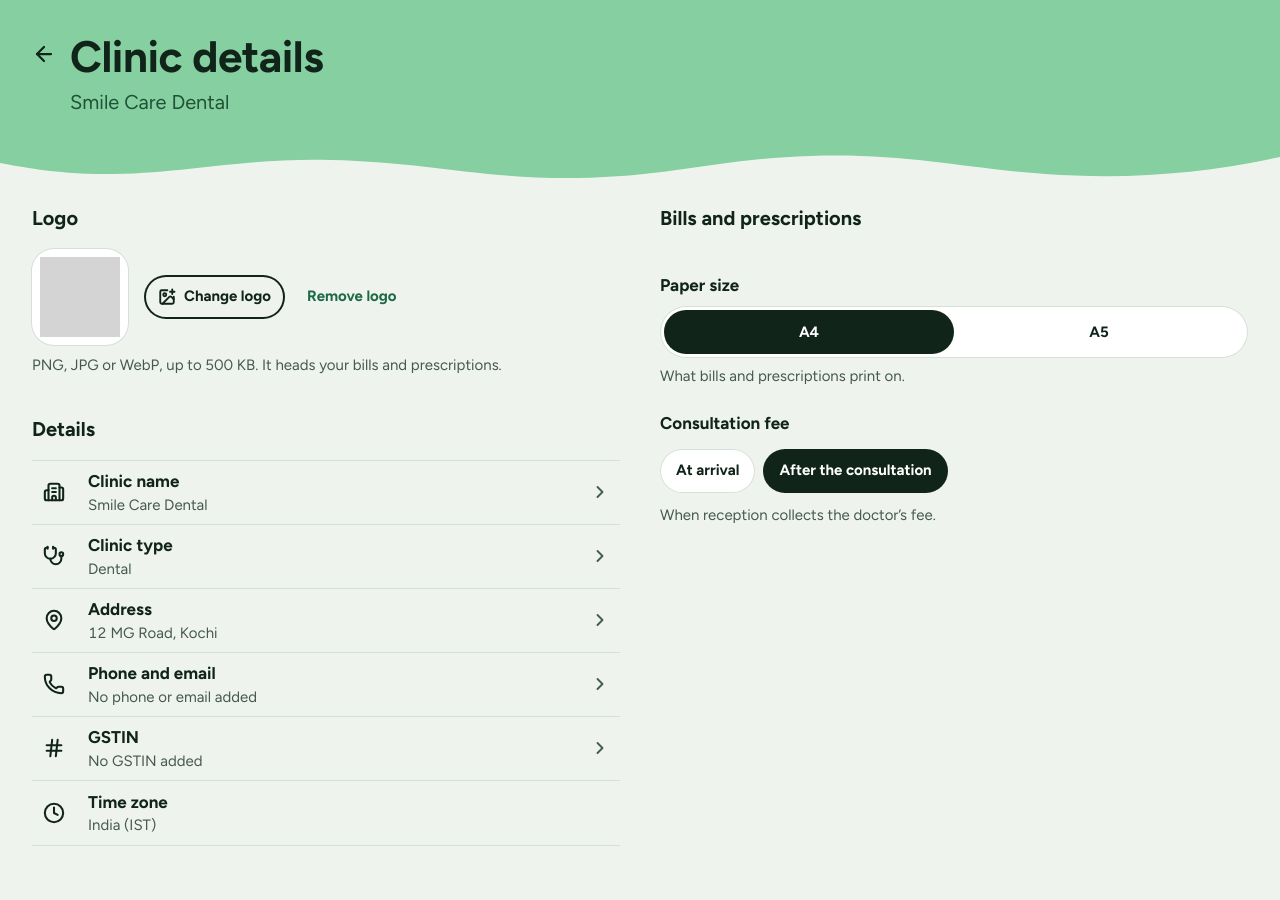
it: ClinicDetails (plan §9, D78) › lists the details as rows, each opening the one sheet that changes them
This screenshot has width=1280, height=900.
Expected: the list items read "Clinic nameSmile Care Dental", "Clinic typeDental", "Address12 MG Road, Kochi", "Phone and emailNo phone or email added", "GSTINNo GSTIN added", "Time zoneIndia (IST)", in this order, [32, 461, 620, 525]; [32, 525, 620, 589]; [32, 589, 620, 653]; [32, 653, 620, 717]; [32, 717, 620, 781]; [43, 792, 168, 834]
Click the button "Address" at (120, 609), box [88, 597, 578, 622]
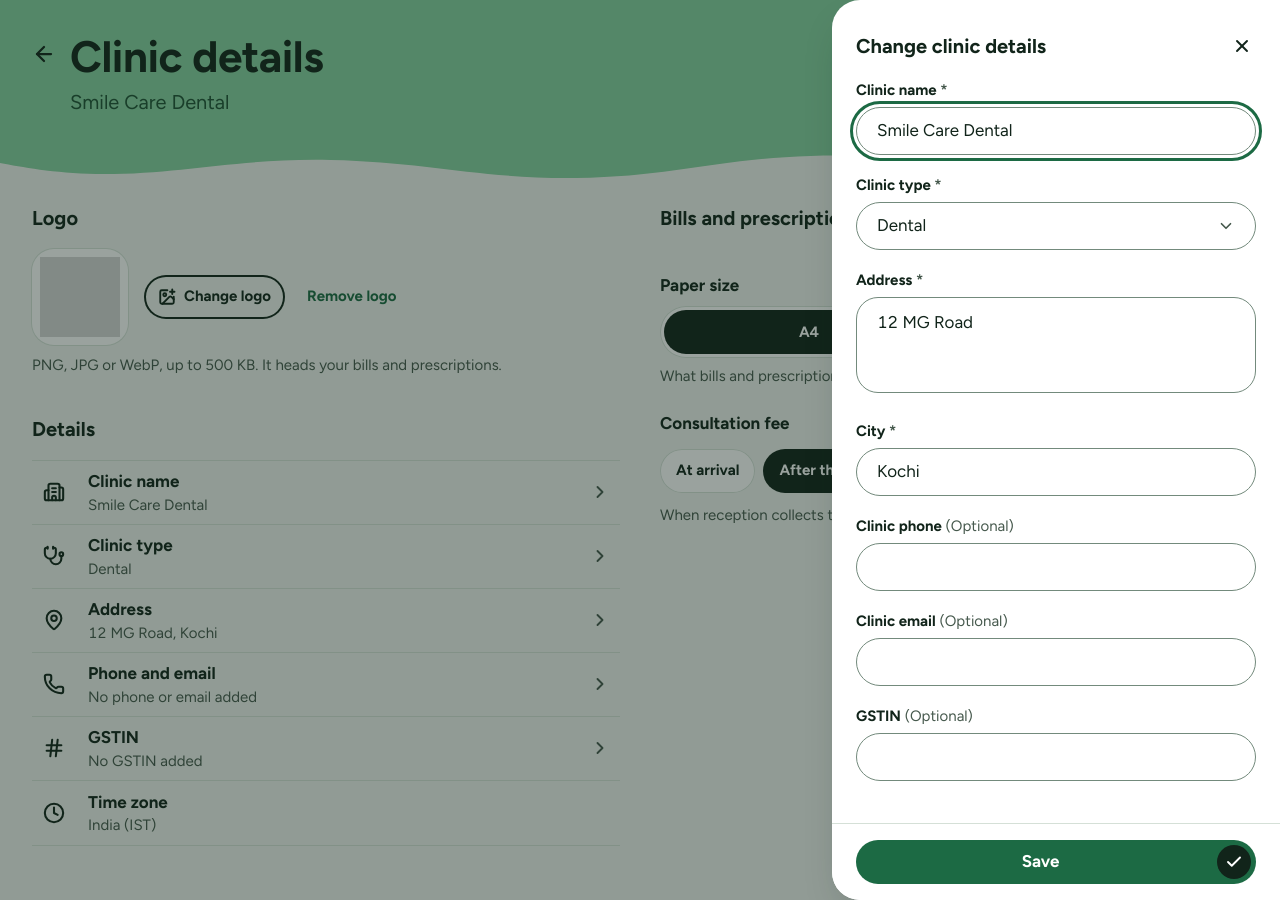
Click the button named "Close" at (1242, 46), box [1220, 24, 1264, 68]
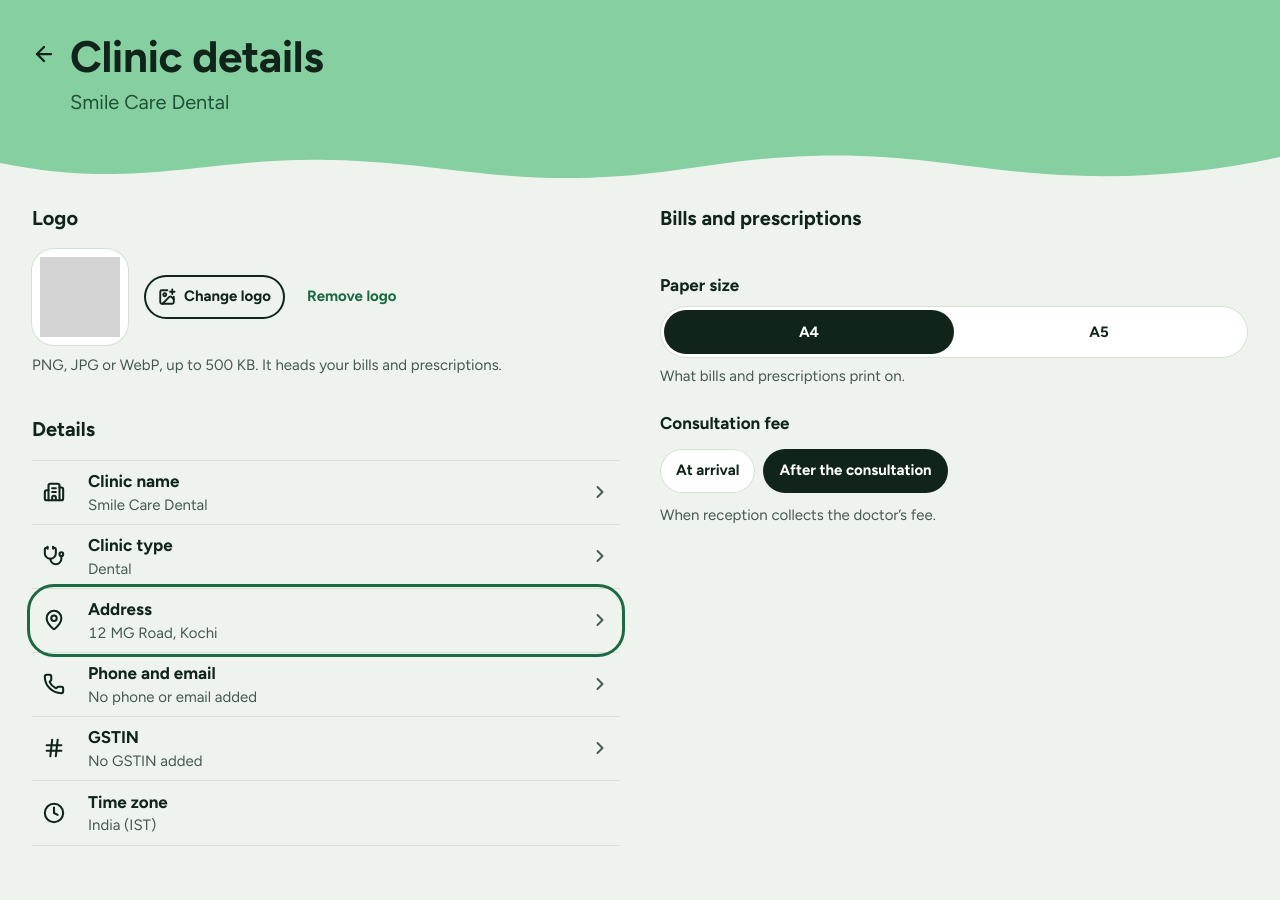
Now the heading "Change clinic details" is gone
